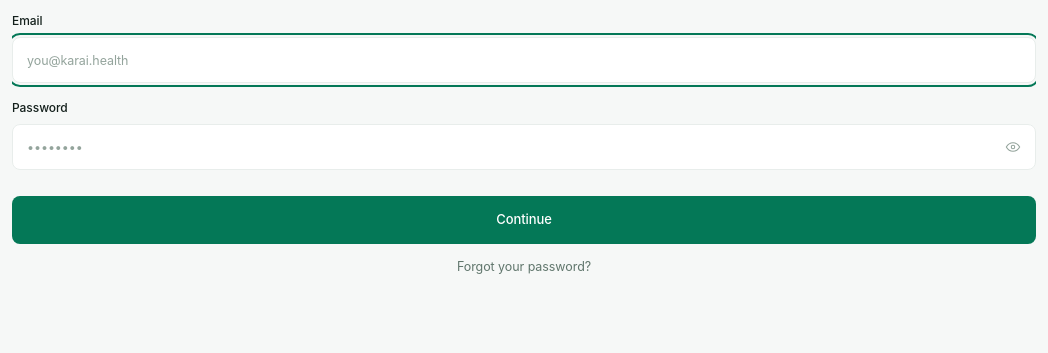
it: LoginForm › surfaces the API message when credentials are wrong
In the field labelled "Email": (524,60) [12,37,1036,83], type "ops@karai.health"
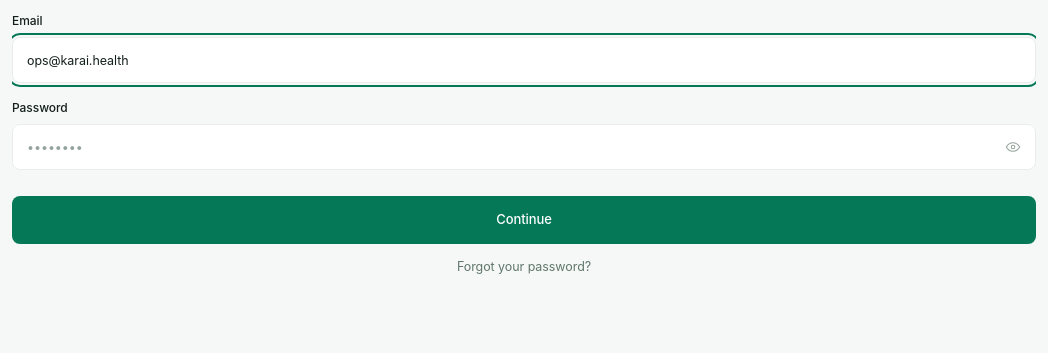
In the password field labelled "Password": (524,147) [12,124,1036,170], type "WrongPass1!"
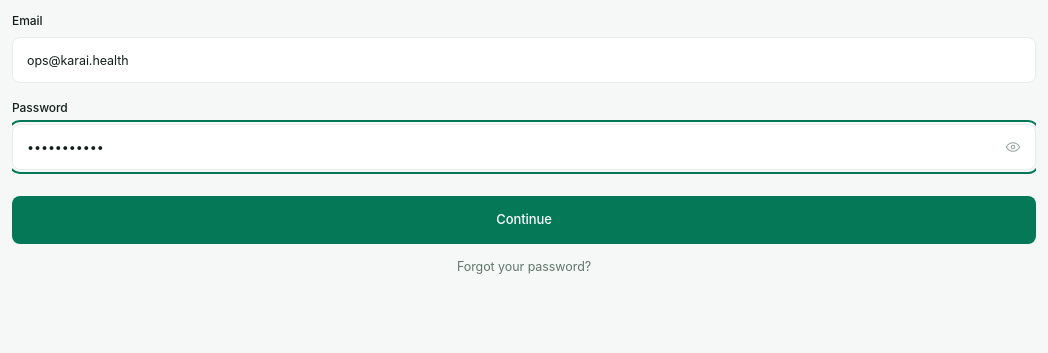
Click the button "Continue": (524,220) [12,196,1036,244]
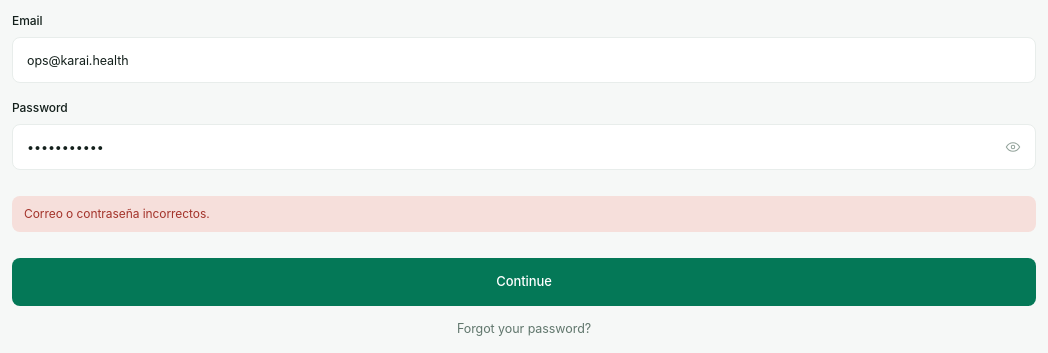
Check: the message reads "Correo o contraseña incorrectos.", box [24,206,210,221]
